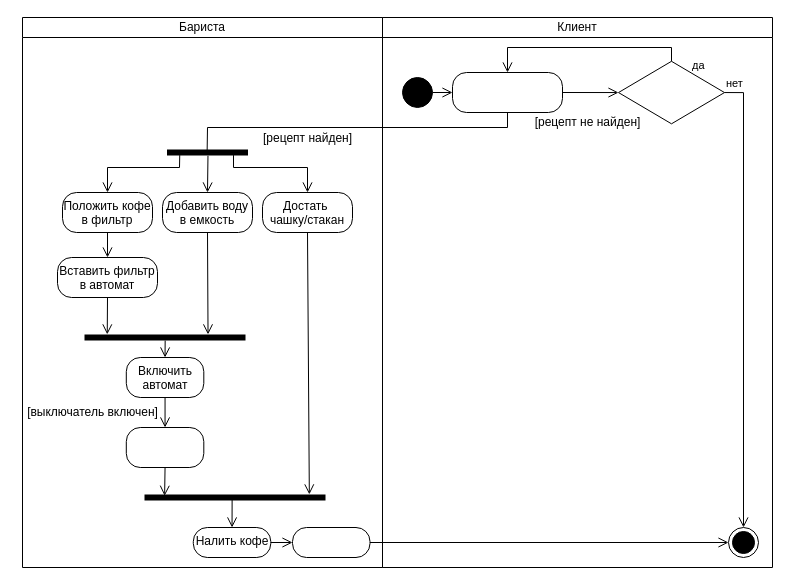
The diagram is 790 pixels wide and 585 high, and some of its shapes have lost their labels. The shapes that lost their labels are listed below. From the top down, each one's centre as x and y in pixels, then its label:
point (507, 92): Выбрать нужный рецепт кофе
point (671, 92): согласен на другой кофе
point (164, 447): Сварить кофе
point (331, 542): Подать кофе
